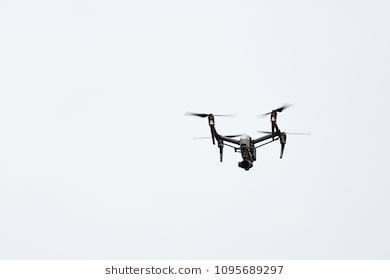drone: (186, 101, 295, 174)
